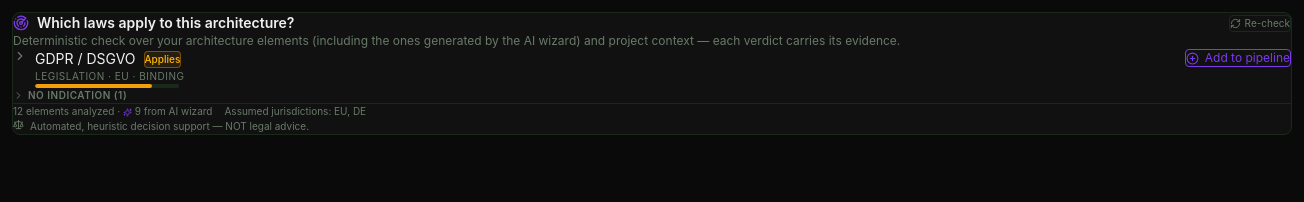
ApplicabilityCheck (UC-LAW-001) › expanding an assessment reveals evidence with wizard marker
Click the text "GDPR / DSGVO".
click(85, 59)  # box [35,49,136,69]
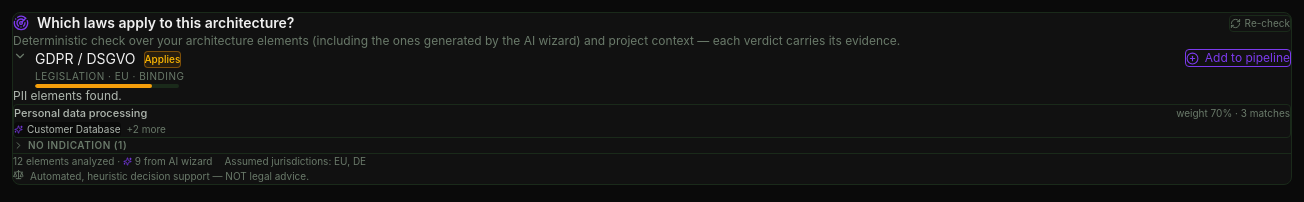
Check: the text "Customer Database" is shown, box [14,122,120,136]
Check: the text "weight 70% · 3 matches" is shown, box [1176,106,1290,121]
